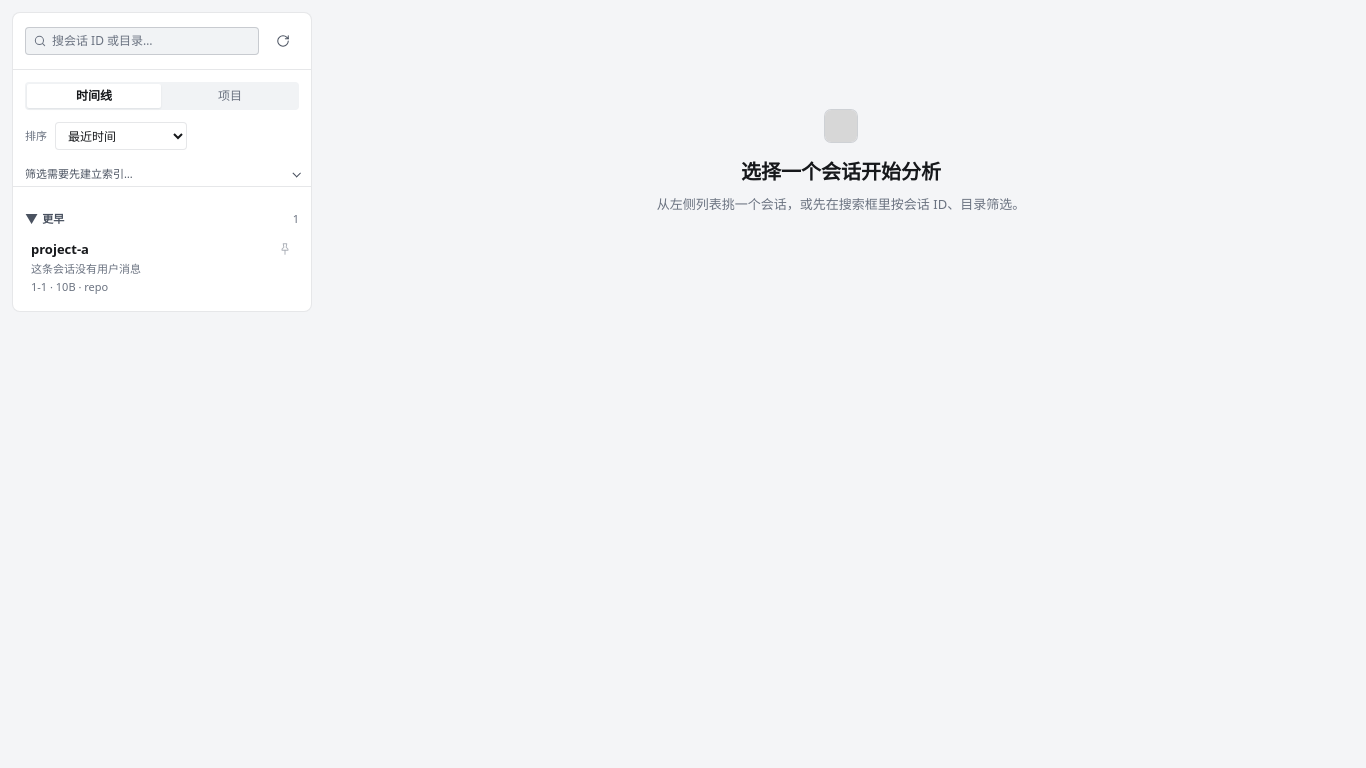
switches between the log and tree views and remembers the choice
The image size is (1366, 768).
Click the button "project-a 这条会话没有用户消息 1-1 · 10B · repo".
click(60, 249)  # box left=21, top=231, right=303, bottom=303
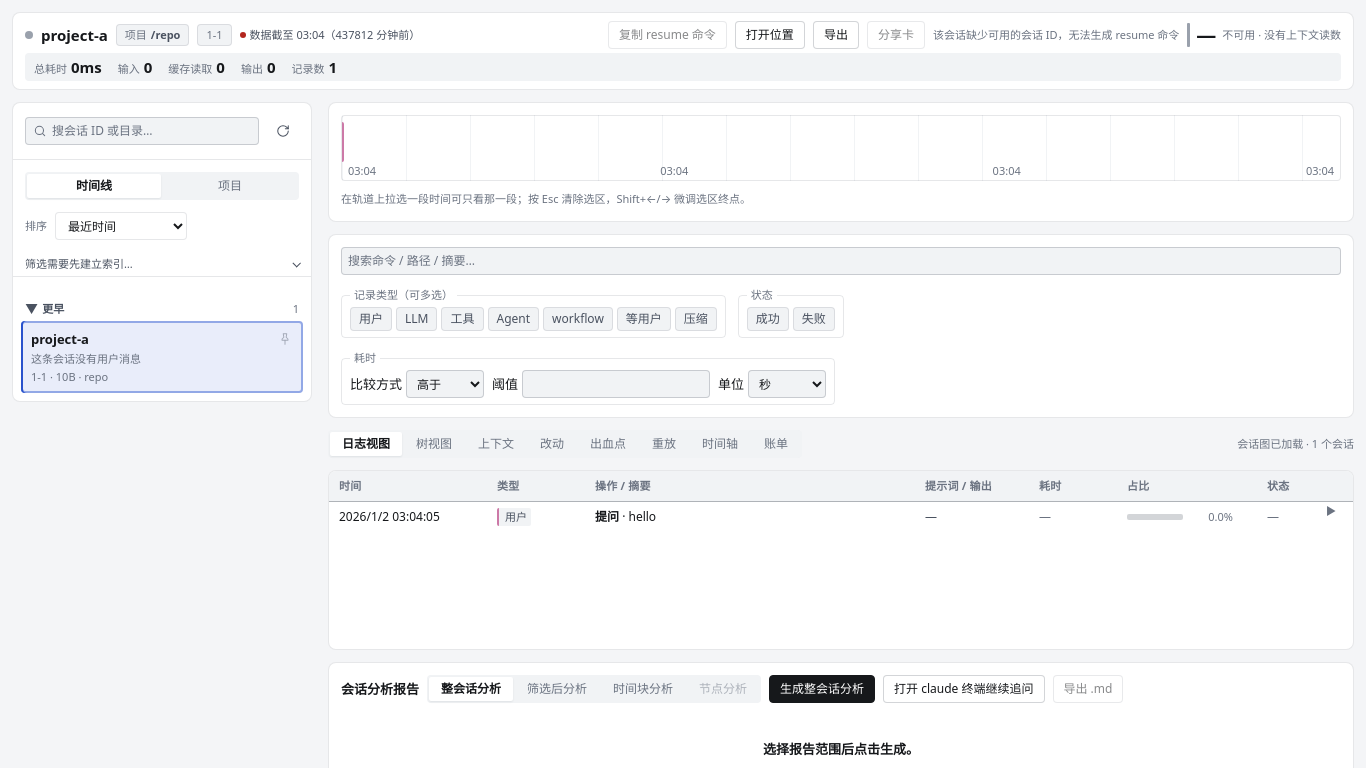
Result: the table is shown at left=329, top=471, right=1353, bottom=532
Click the tab "树视图".
click(434, 444)  # box left=404, top=432, right=464, bottom=456
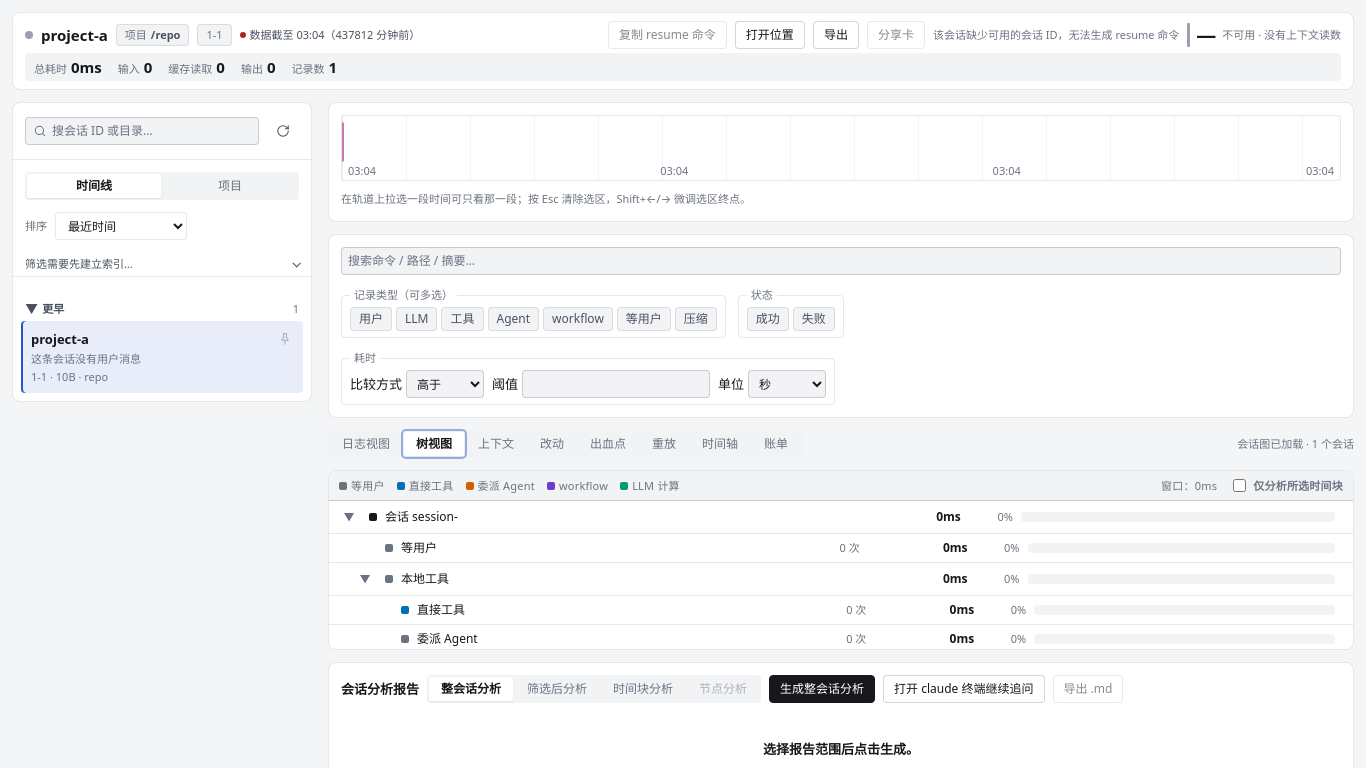
Result: the element named "耗时树" is shown at left=329, top=501, right=1353, bottom=650
Result: the table is gone
Click the tab "日志视图".
click(366, 444)  # box left=330, top=432, right=402, bottom=456
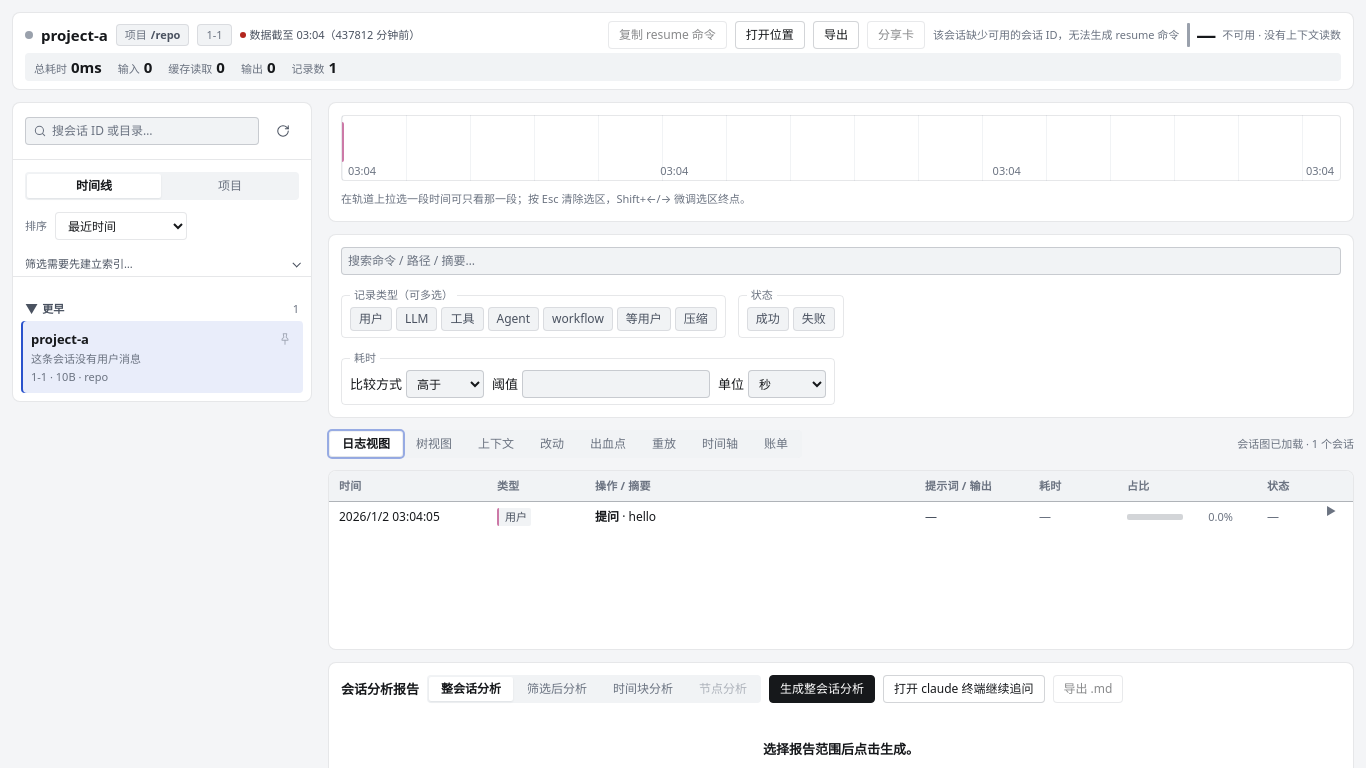
Result: the table is shown at left=329, top=471, right=1353, bottom=532
